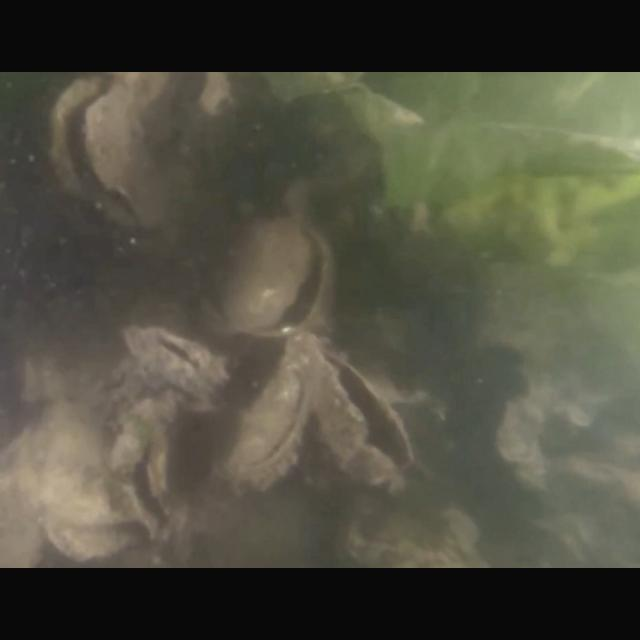Oyster-Closed: (21, 403, 148, 561)
Oyster-Open: (289, 333, 417, 489), (47, 74, 166, 232), (216, 211, 338, 339), (224, 358, 314, 492), (105, 403, 175, 543), (121, 324, 231, 402)
